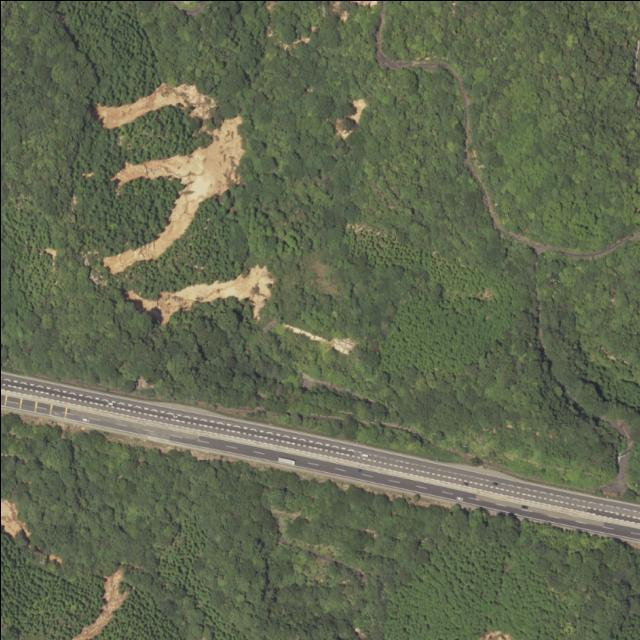landslide: (102, 115, 243, 273), (126, 265, 272, 324), (95, 82, 214, 127)
